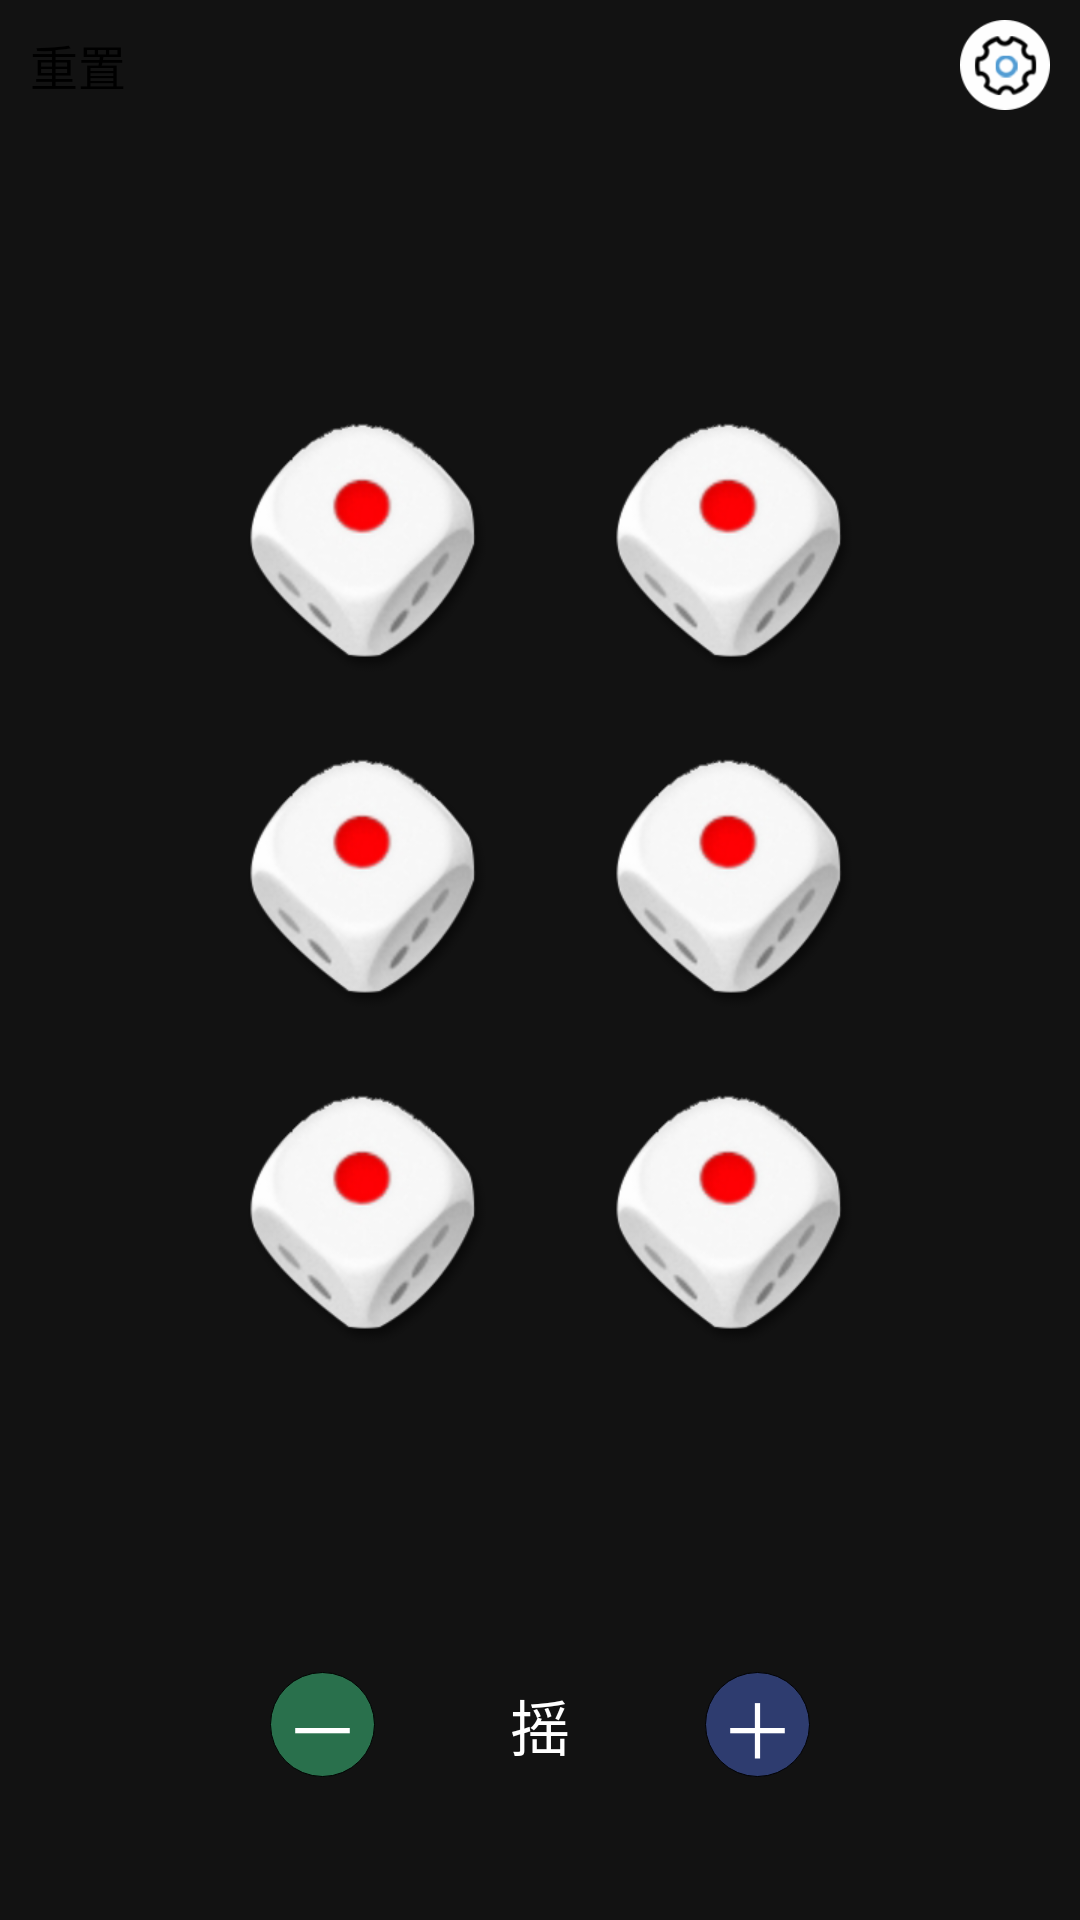

Named icons in this screenshot (1080x1920) and their bounding boxes, bbox=(x1, y1, x2, y2):
setting: bbox=(960, 20, 1050, 110)
